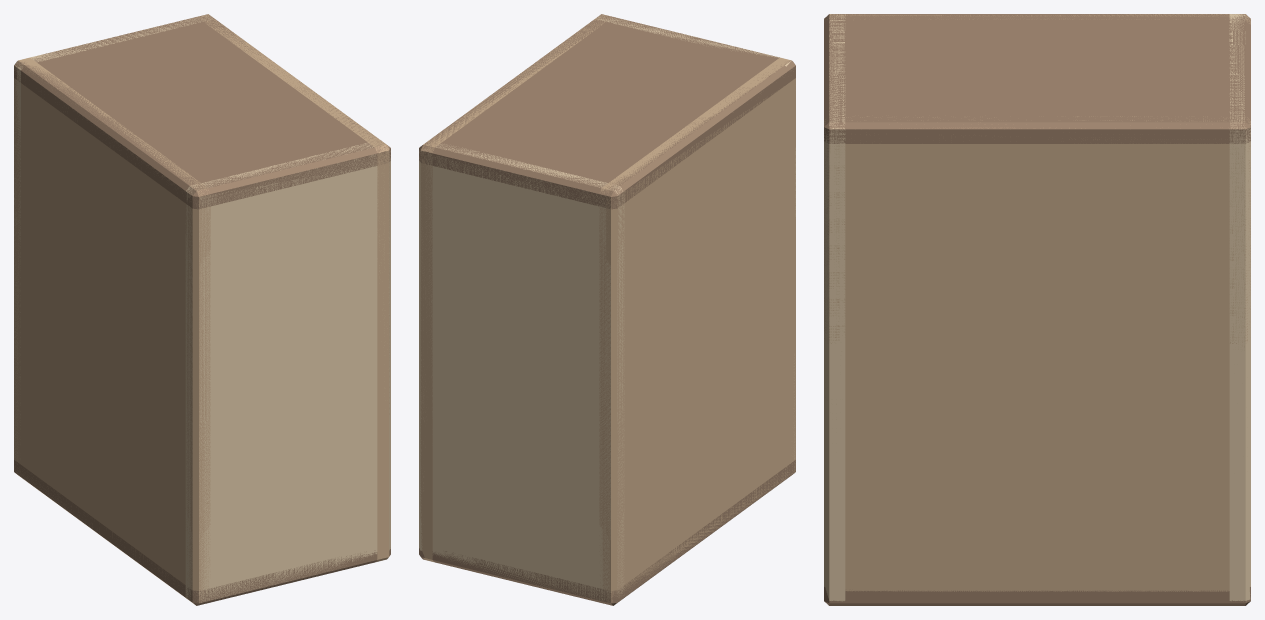
Rendered from Filler_Half.glb.
3 views of the same model, side by side, from view 1: azimuth 30°, elevation 25°; view 2: azimuth 150°, elevation 25°; view 3: azimuth 270°, elevation 25° (orthographic). The views are drawn at different scales.
Parts seen in each view (by area): view 1: SpaceSaver_WallSys_Filler_Half; view 2: SpaceSaver_WallSys_Filler_Half; view 3: SpaceSaver_WallSys_Filler_Half.
Boxes of the visible parts, x1,y1,x2,y2 form: SpaceSaver_WallSys_Filler_Half: [14, 14, 390, 605]; SpaceSaver_WallSys_Filler_Half: [419, 14, 795, 605]; SpaceSaver_WallSys_Filler_Half: [824, 14, 1250, 605].
Size of the model in its own units: 0.2 by 0.4 by 0.32.
